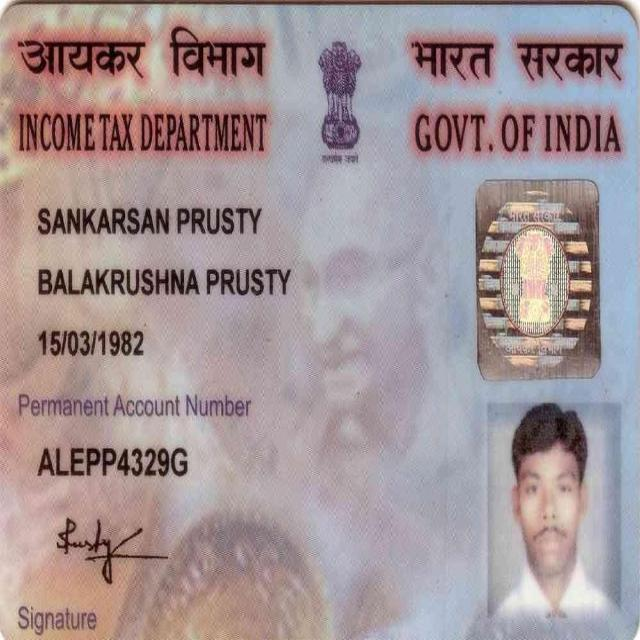pan_card: (1, 8, 639, 635)
